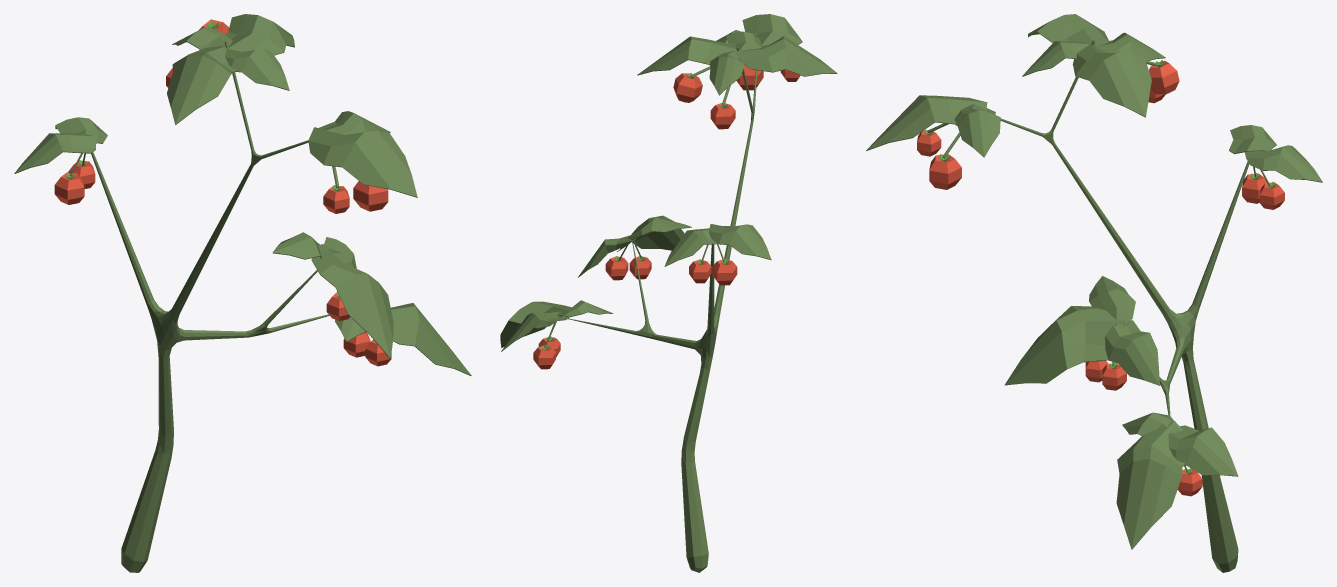
Rendered from plant01.fbx.
3 renders of one model, left to right at view 1: azimuth 30°, elevation 25°; view 2: azimuth 150°, elevation 25°; view 3: azimuth 270°, elevation 25°, orthographic. The views are drawn at different scales.
Visible parts, largest first — view 1: Plane.023; view 2: Plane.023; view 3: Plane.023.
Part boxes in pixels (bbox=[...]): Plane.023: bbox=[14, 14, 471, 572]; Plane.023: bbox=[500, 14, 837, 572]; Plane.023: bbox=[866, 14, 1322, 572].
Size of the model in its own units: 0.6207 by 0.884 by 0.6673.
